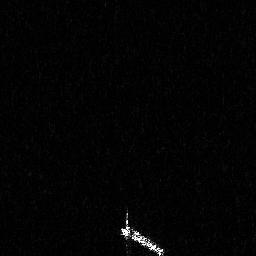ship: (118, 205, 167, 256)
